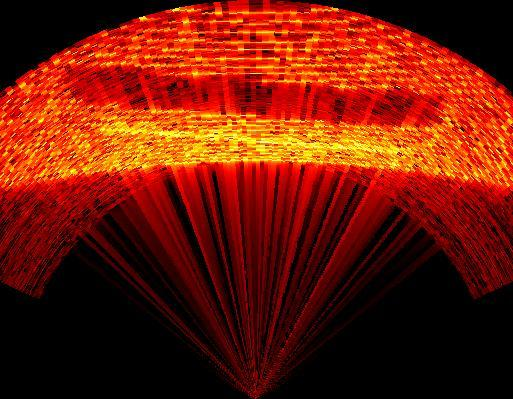pipe: (62, 70, 449, 126)
